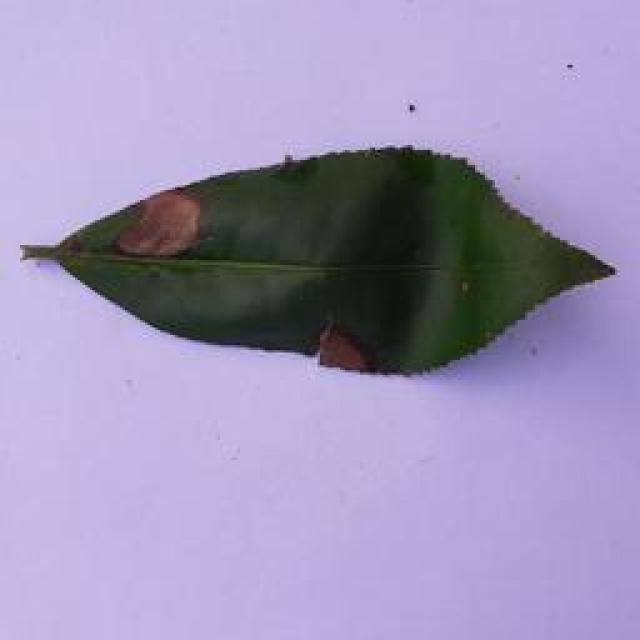Gray Blight: (21, 144, 616, 378)
